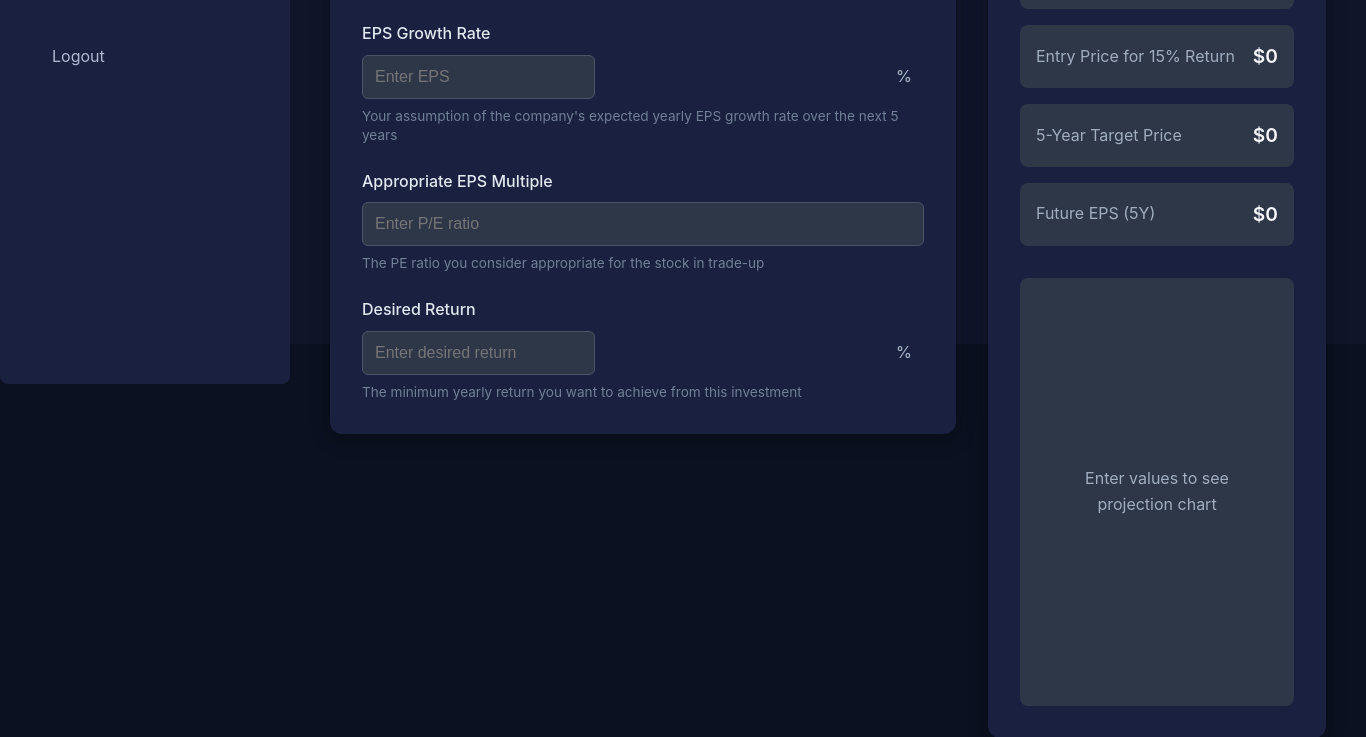
Test: ProjectionsPage Component › updates desired return display when changed
The image size is (1366, 737).
(page scrolled)
Step 1. Type "20" into the number field with placeholder "Enter desired return" → (478, 353), box top-left (362, 331), bottom-right (595, 375)
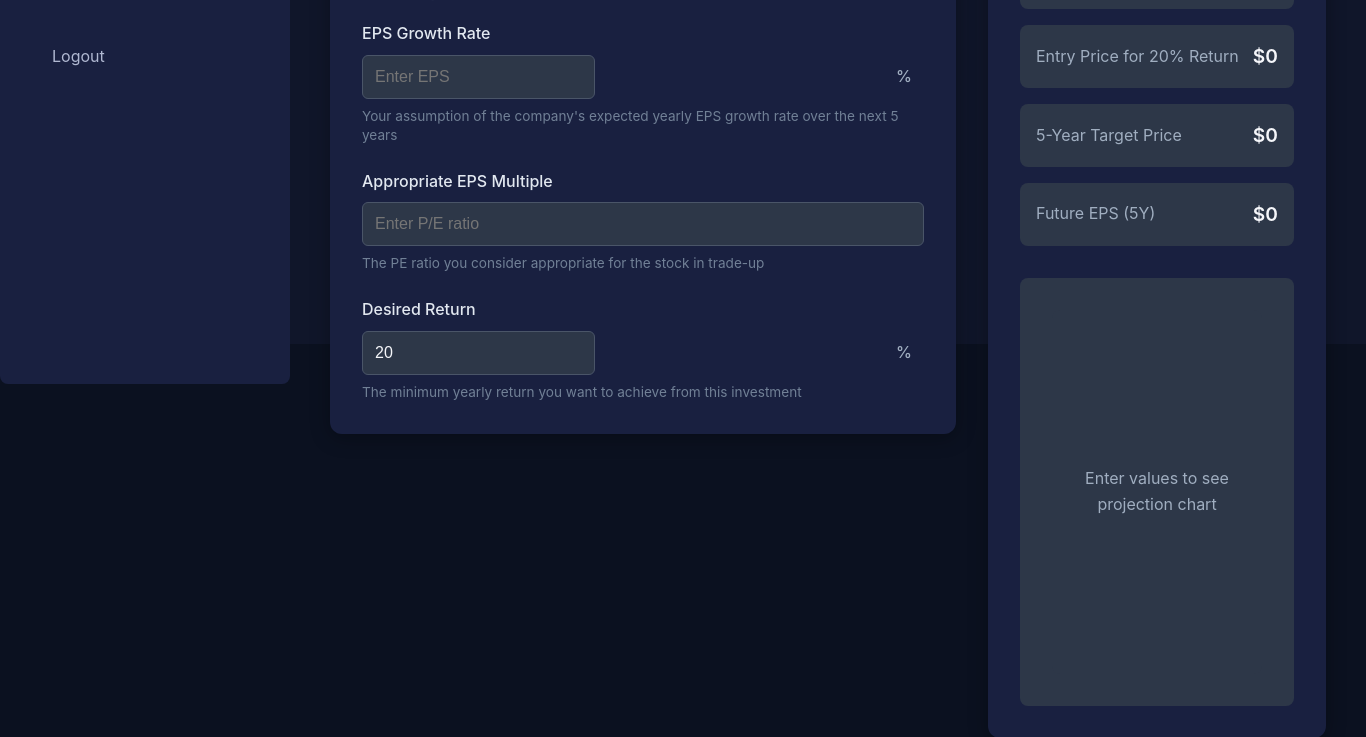
Result: the text "Entry Price for 20% Return" is shown at top-left (1036, 44), bottom-right (1239, 70)
